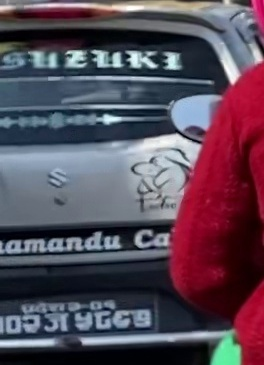license_plate: (1, 294, 159, 339)
